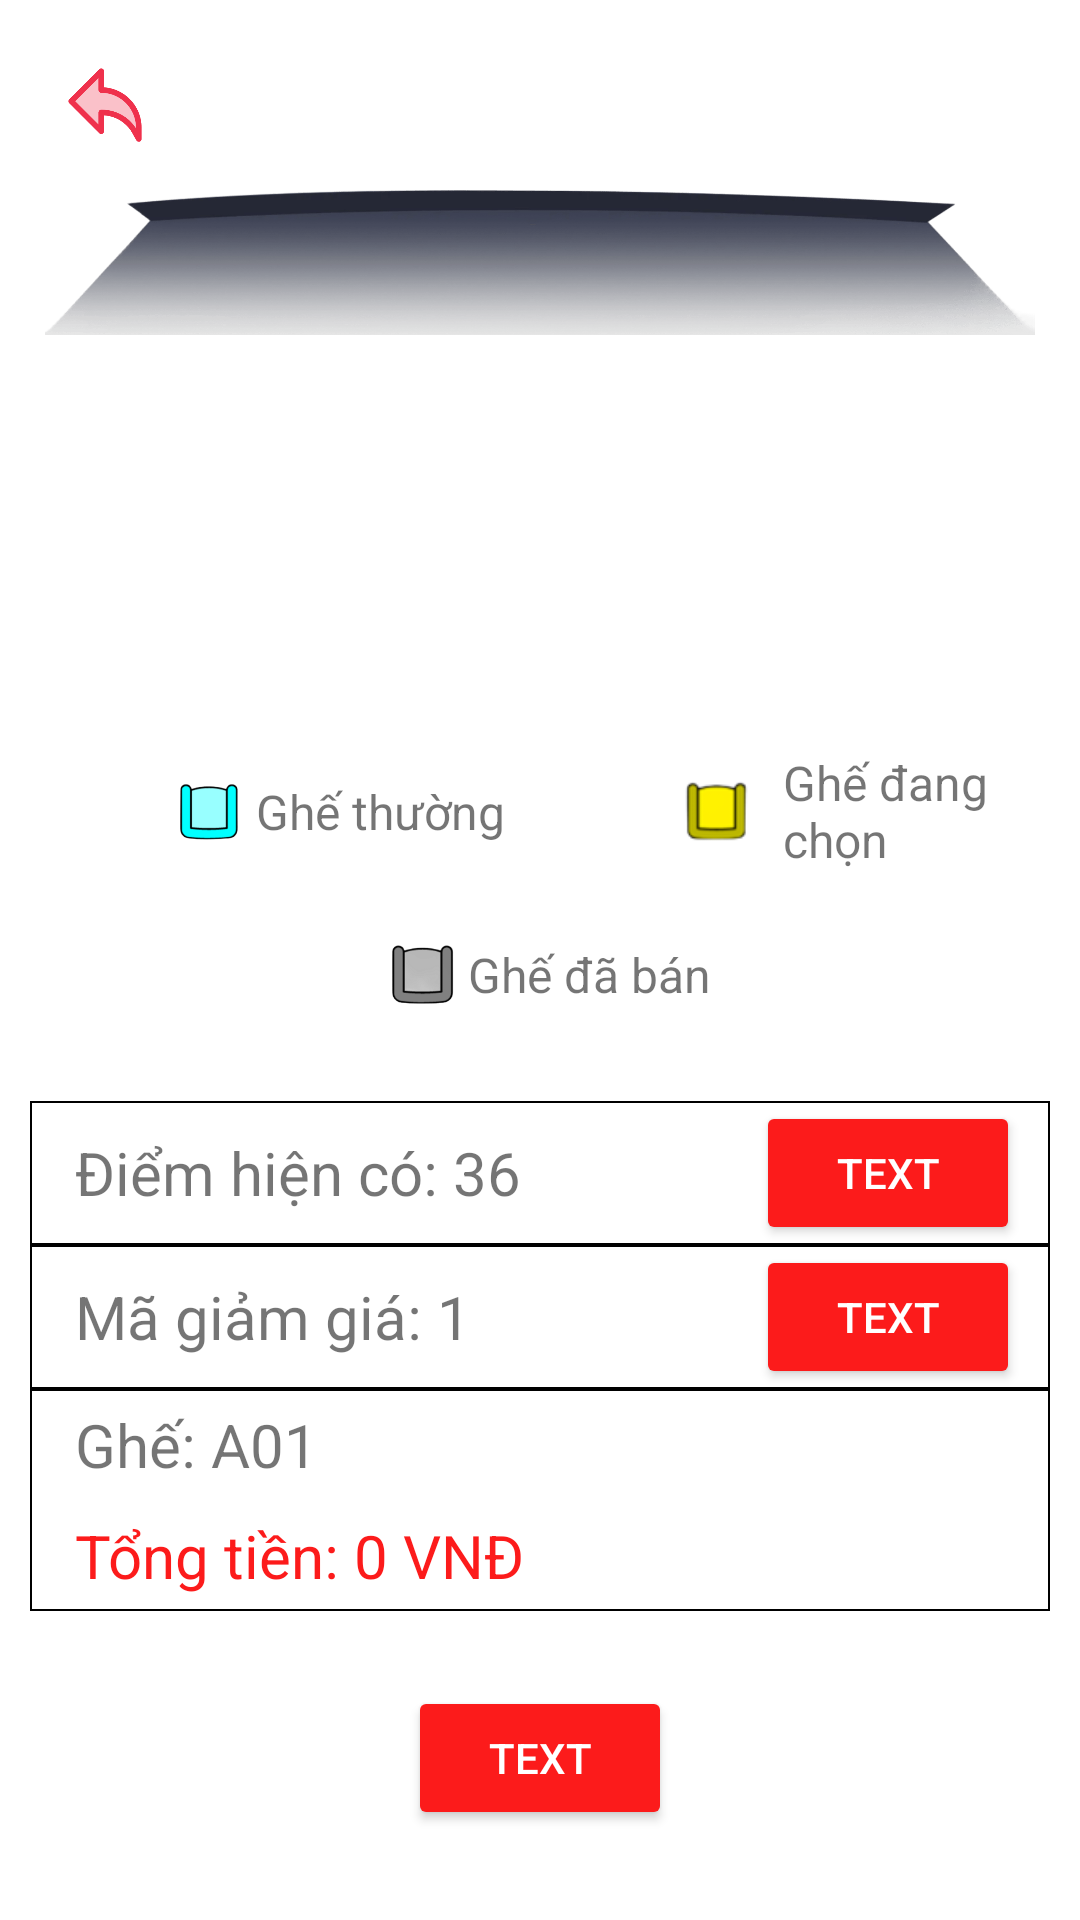

Point at icon controls on the screen. Image size 1080 x 1920, points as (x=x, y=y).
return: (x=105, y=105)
